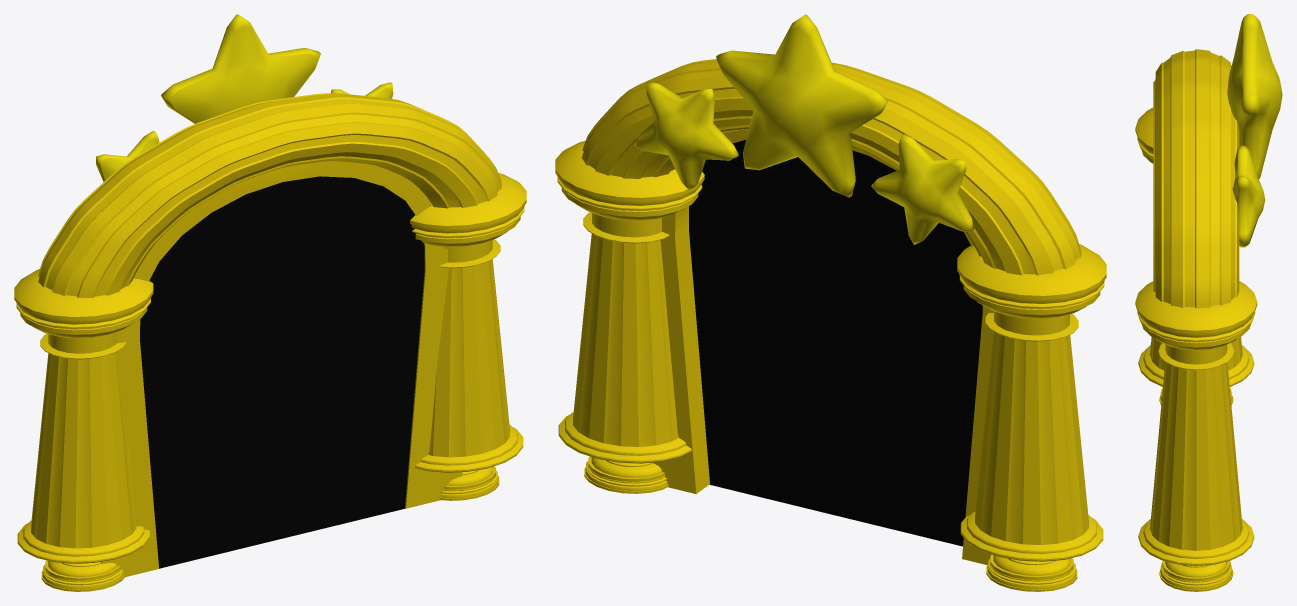
The model's file is goal_02.fbx.
3 renders of one model, left to right at view 1: azimuth 30°, elevation 25°; view 2: azimuth 150°, elevation 25°; view 3: azimuth 270°, elevation 25°, orthographic. The views are drawn at different scales.
Parts seen in each view (by area): view 1: hasira, star, mini_star02; view 2: hasira, star, mini_star02, mini_star01; view 3: hasira, star, mini_star01.
Boxes of the visible parts, <box> form: hasira: <box>14,93,526,591</box>; star: <box>161,14,320,123</box>; mini_star02: <box>96,131,159,181</box>; hasira: <box>555,59,1106,591</box>; star: <box>716,14,887,197</box>; mini_star02: <box>871,134,973,244</box>; mini_star01: <box>635,81,738,190</box>; hasira: <box>1135,49,1257,591</box>; star: <box>1227,14,1282,179</box>; mini_star01: <box>1232,145,1265,247</box>.
Size of the model in its own units: 324 by 308 by 86.84.
